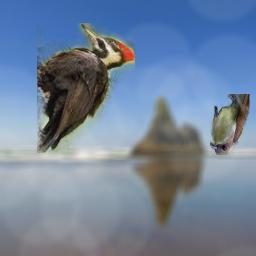Cuckoo: (210, 94, 250, 155)
Woodpecker: (37, 23, 135, 153)
